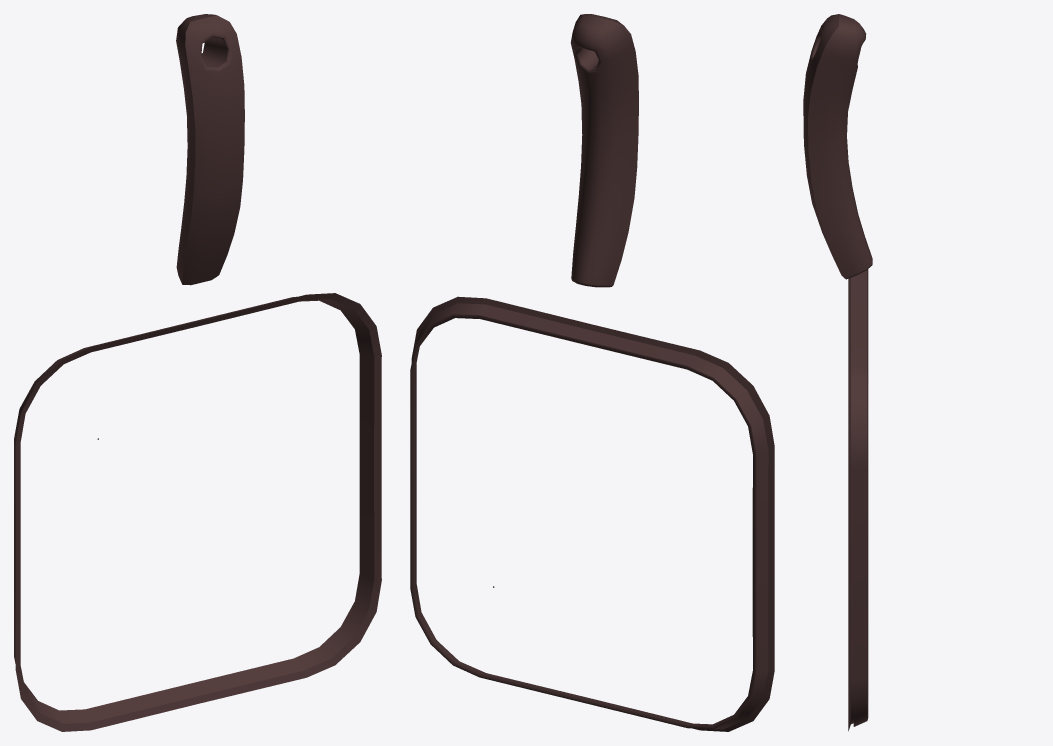
File: MeshPot_1_0_GeomSubset_1.obj
3 views of the same model, side by side, from view 1: azimuth 30°, elevation 25°; view 2: azimuth 150°, elevation 25°; view 3: azimuth 270°, elevation 25° (orthographic). The views are drawn at different scales.
Visible parts, largest first — view 1: MeshPot_1_0_GeomSubset_1; view 2: MeshPot_1_0_GeomSubset_1; view 3: MeshPot_1_0_GeomSubset_1.
Boxes of the visible parts, left/top/right/bottom form: MeshPot_1_0_GeomSubset_1: left=14, top=14, right=381, bottom=731; MeshPot_1_0_GeomSubset_1: left=410, top=14, right=774, bottom=731; MeshPot_1_0_GeomSubset_1: left=803, top=14, right=872, bottom=731.
Size of the model in its own units: 0.2715 by 0.4883 by 0.1593.
